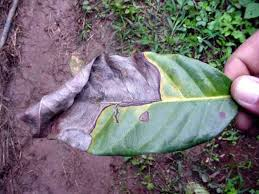mal de hilachas: (21, 54, 227, 156)
